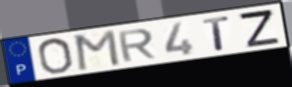4: (162, 20, 196, 57)
M: (73, 28, 122, 72)
O: (36, 36, 75, 75)
R: (115, 27, 158, 64)
T: (201, 15, 231, 52)
Z: (236, 8, 282, 49)
